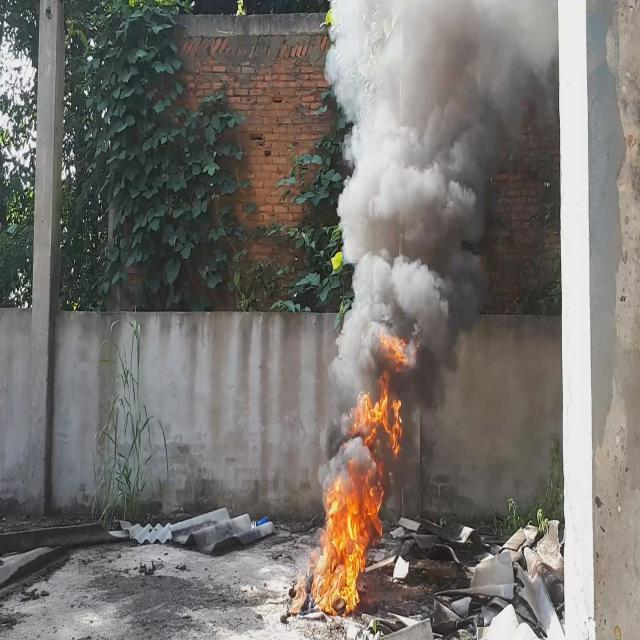Fire: (309, 332, 411, 618)
Smoke: (318, 0, 560, 491)
